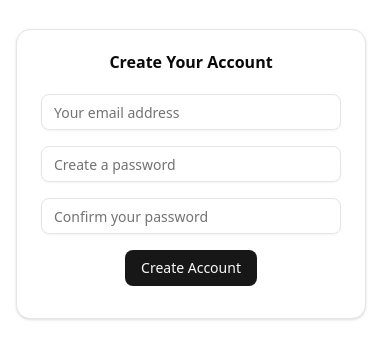
CreateAccount Component › validates email format and shows error for invalid email
// Enter invalid email
In the field with placeholder "Your email address": (191, 112) [41,94,341,130], type "invalid-email"
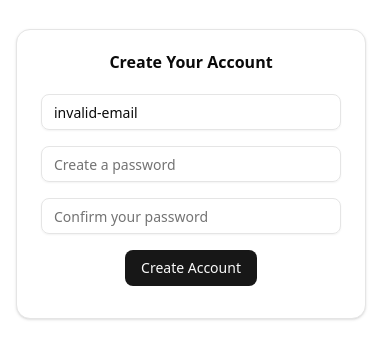
Leave the field with placeholder "Your email address", box [41,94,341,130]
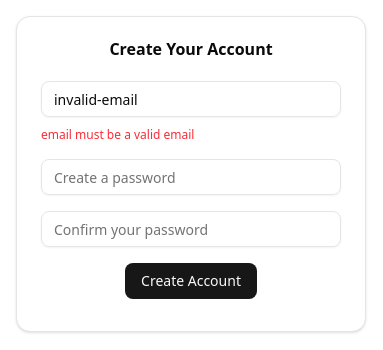
Now the text "email must be a valid email" is shown, box [41,126,194,143]
